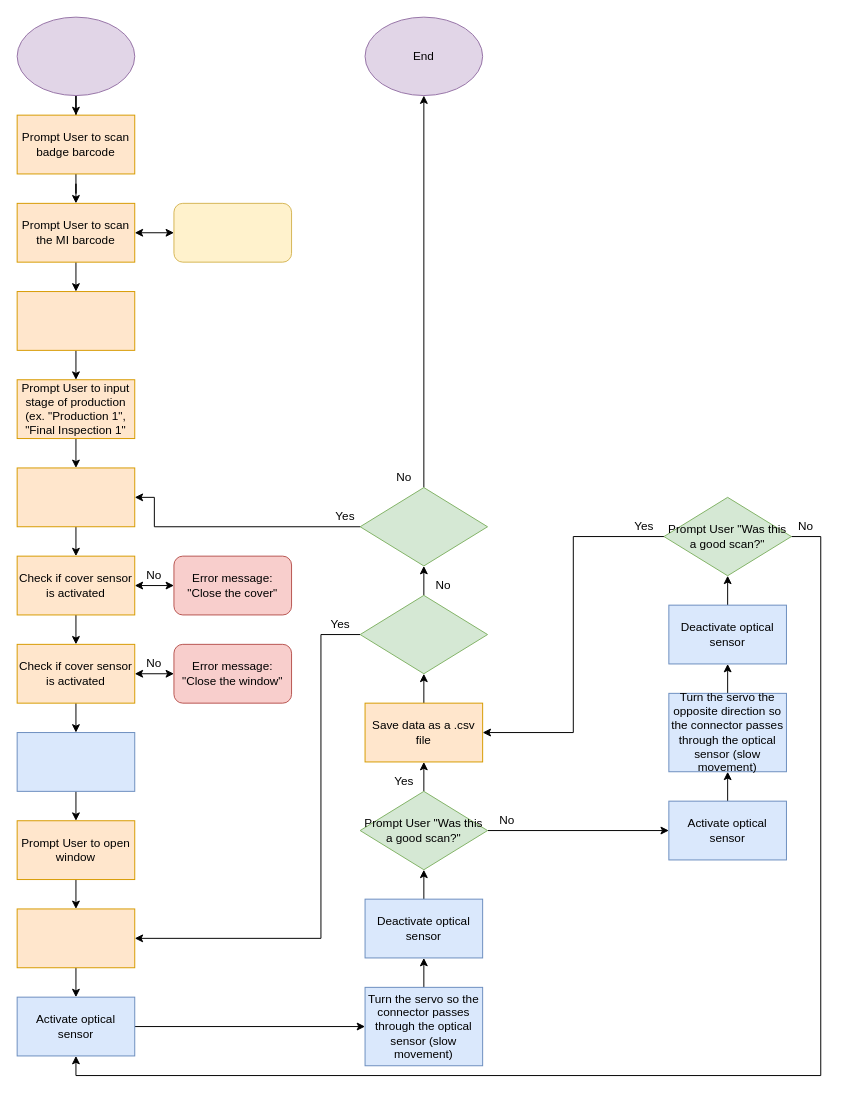
Image size: 846x1101. Some labels were removed from this diagram. Here are the shapes that lost their labels. From the top down, the box of each, then its label:
(16, 16, 135, 96): Start
(173, 202, 292, 262): Program searches through database for MI info
(16, 291, 135, 350): Prompt User to input serial #
(16, 467, 135, 527): Prompt User to input fore port or aft port connector
(359, 487, 488, 566): Prompt User "Does the second port need to be scanned?"
(359, 594, 488, 674): Prompt User "Are there more connectors of the same port and MI #?"
(16, 732, 135, 791): Move servo so connector slot is ready to be scanned (rapid movement)
(16, 908, 135, 968): Prompt User to insert a connector
